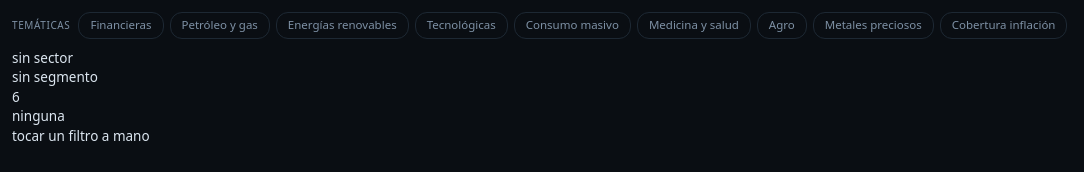
Test: ChipsTematicos › aplicar una temática precarga sus filtros de renta fija
Click the button "Petróleo y gas" at (220, 25), box [170,12,270,39]
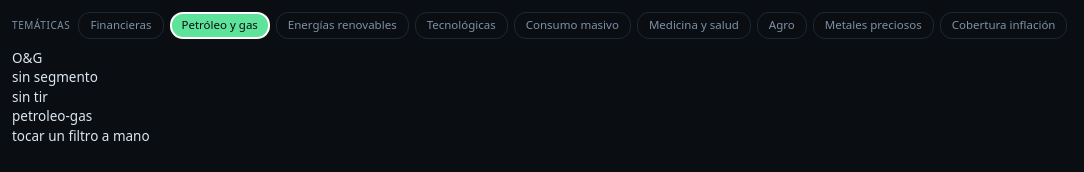
expect the text with test id "sector" reads "O&G": met, box [12,49,42,67]
expect the text with test id "tematica" reads "petroleo-gas": met, box [12,107,92,125]
